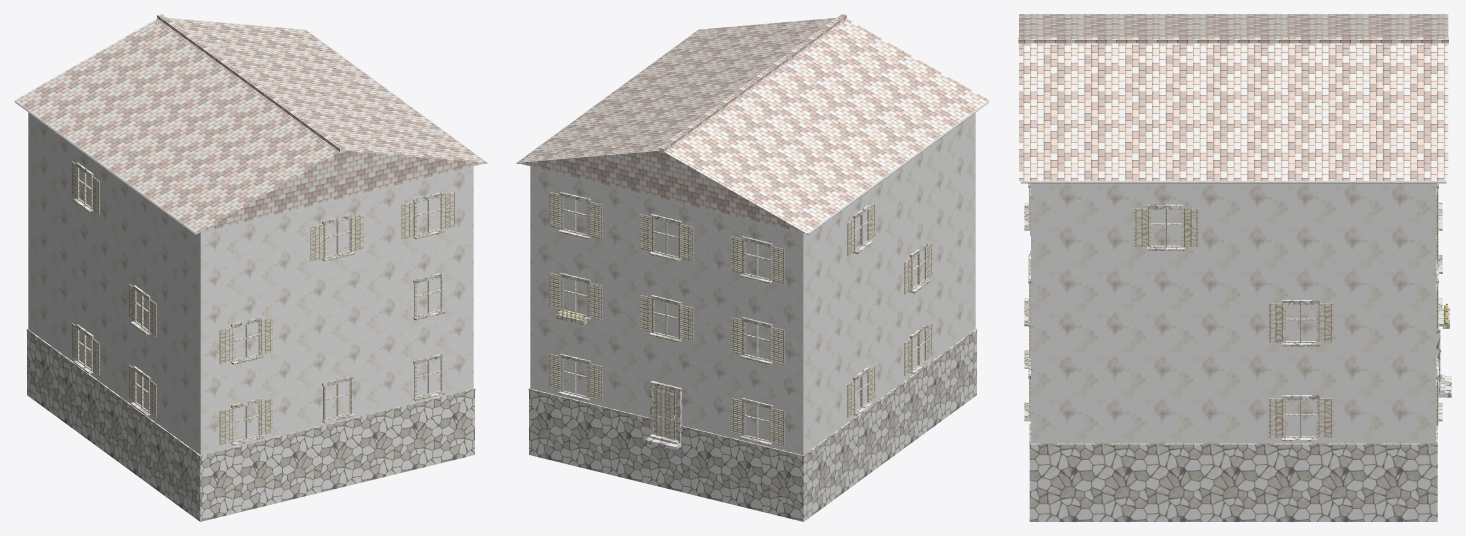
The picture shows the model from 3 angles, left to right: view 1: azimuth 30°, elevation 25°; view 2: azimuth 150°, elevation 25°; view 3: azimuth 270°, elevation 25°; orthographic projection. The views are drawn at different scales.
Visible parts, largest first — view 1: b947602164; view 2: b947602164; view 3: b947602164.
Part boxes in pixels (x1,y1,x2,y2): b947602164: (14,14,487,521); b947602164: (516,14,989,521); b947602164: (1018,14,1451,521).
Bounding box in the file's own units: 11.72 × 13.16 × 12.78.
22 materials, 19 textured.
